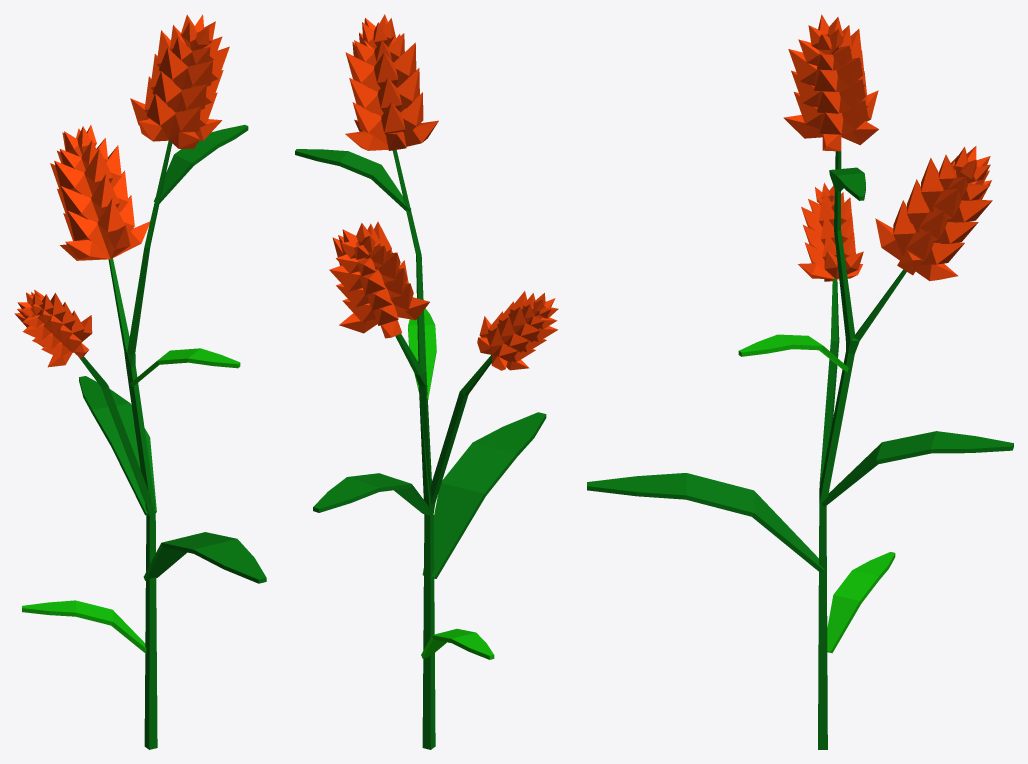
The model's file is Flower07_V2.fbx.
3 renders of one model, left to right at view 1: azimuth 30°, elevation 25°; view 2: azimuth 150°, elevation 25°; view 3: azimuth 270°, elevation 25°, orthographic. The views are drawn at different scales.
Visible parts, largest first — view 1: Cube.002; view 2: Cube.002; view 3: Cube.002.
Boxes of the visible parts, x1,y1,x2,y2 form: Cube.002: (14,14,266,749); Cube.002: (295,14,558,749); Cube.002: (587,14,1013,749).
Bounding box in the file's own units: 15.47 × 43.38 × 22.26.
